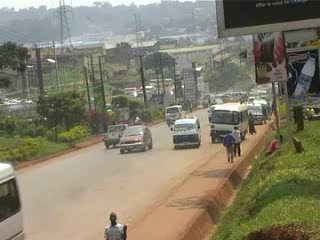Car: (118, 123, 154, 154)
